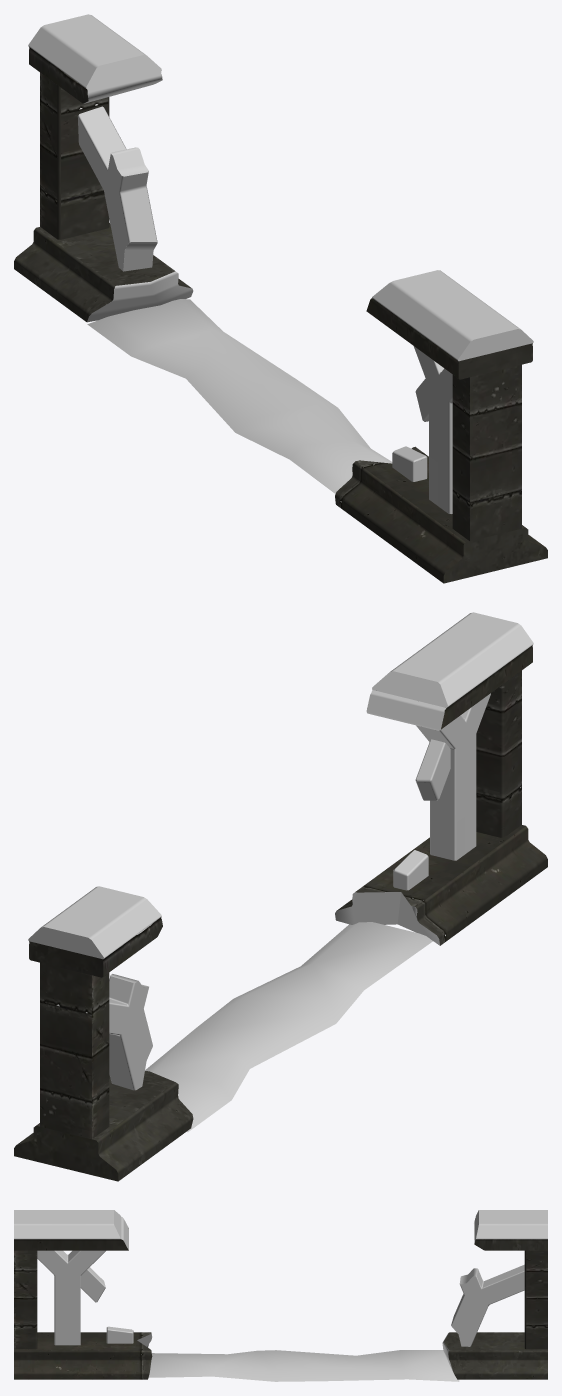
3 views of the same model, one above another, from view 1: azimuth 30°, elevation 25°; view 2: azimuth 150°, elevation 25°; view 3: azimuth 270°, elevation 25° (orthographic). The views are drawn at different scales.
Parts seen in each view (by area): view 1: SM_Greathall_Banister_02_DMG_LOD0; view 2: SM_Greathall_Banister_02_DMG_LOD0; view 3: SM_Greathall_Banister_02_DMG_LOD0.
Boxes of the visible parts, left/top/right/bottom form: SM_Greathall_Banister_02_DMG_LOD0: left=14, top=14, right=547, bottom=583; SM_Greathall_Banister_02_DMG_LOD0: left=14, top=612, right=547, bottom=1181; SM_Greathall_Banister_02_DMG_LOD0: left=14, top=1210, right=547, bottom=1381.
Bounding box in the file's own units: 0.7022 × 1.54 × 5.
